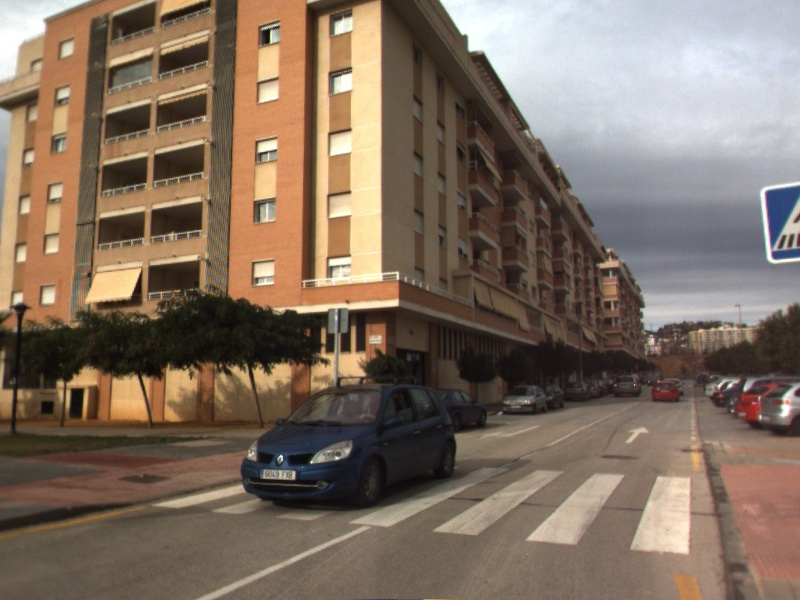STRAIGHT: (623, 424, 652, 445)
